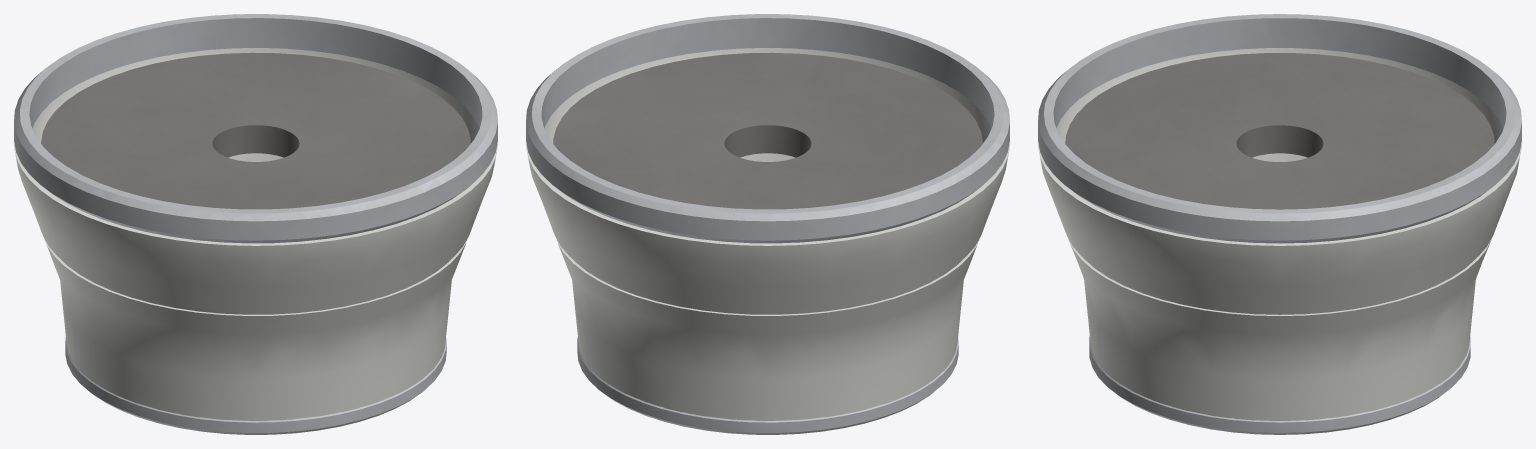
The model's file is ax_struct_11_boat_tail_s.glb.
The picture shows the model from 3 angles, left to right: view 1: azimuth 30°, elevation 25°; view 2: azimuth 150°, elevation 25°; view 3: azimuth 270°, elevation 25°; orthographic projection.
Parts seen in each view (by area): view 1: skirt_shell, thrust_plate, top_ring, bottom_lip; view 2: skirt_shell, thrust_plate, top_ring, bottom_lip; view 3: skirt_shell, thrust_plate, top_ring, bottom_lip.
Part boxes in pixels (x1,y1,x2,y2): skirt_shell: [14, 48, 497, 420]; thrust_plate: [41, 52, 470, 209]; top_ring: [14, 14, 497, 243]; bottom_lip: [65, 337, 446, 434]; skirt_shell: [526, 48, 1009, 420]; thrust_plate: [553, 52, 982, 209]; top_ring: [526, 14, 1009, 243]; bottom_lip: [577, 337, 958, 434]; skirt_shell: [1038, 48, 1521, 420]; thrust_plate: [1065, 53, 1494, 209]; top_ring: [1038, 14, 1521, 243]; bottom_lip: [1089, 336, 1470, 434].
Bounding box in the file's own units: 1.25 × 0.69 × 1.25.
4 materials, 3 textured.
